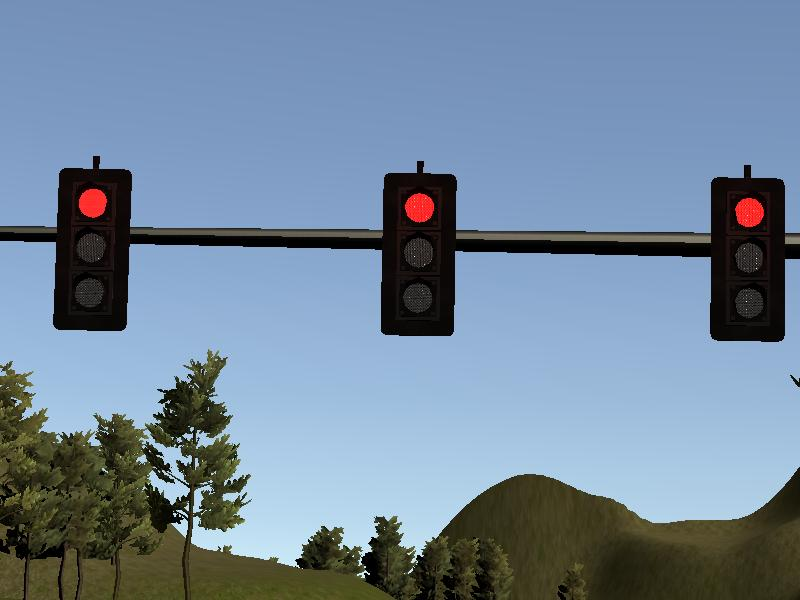red: (55, 170, 128, 331), (382, 174, 455, 335), (711, 178, 784, 339)
